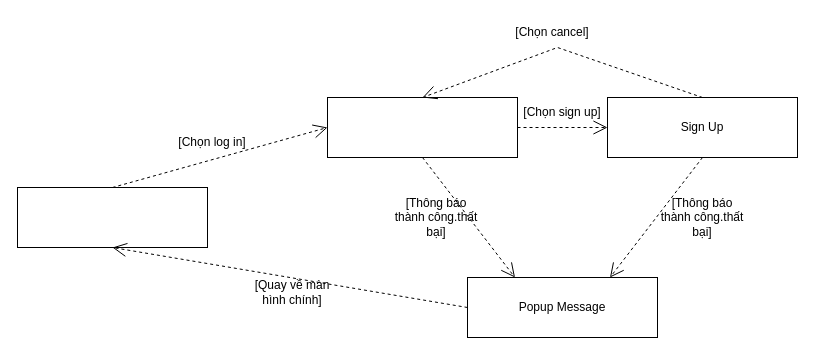
Some shapes in this 815 by 355 pixel diagram are drawn without their labels. The shapes that lost their labels are listed below. From the top down, each one's box as (x1, y1, x2, y2) in pixels, then its label:
(326, 96, 518, 158): Login
(16, 186, 208, 248): Home
